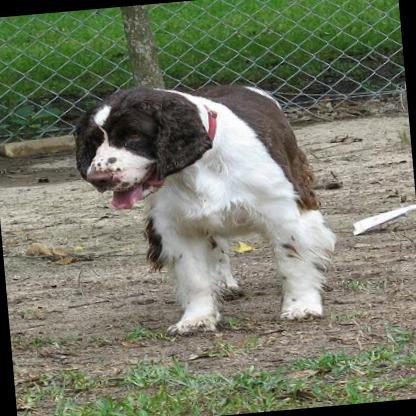English_springer: (60, 70, 346, 349)
